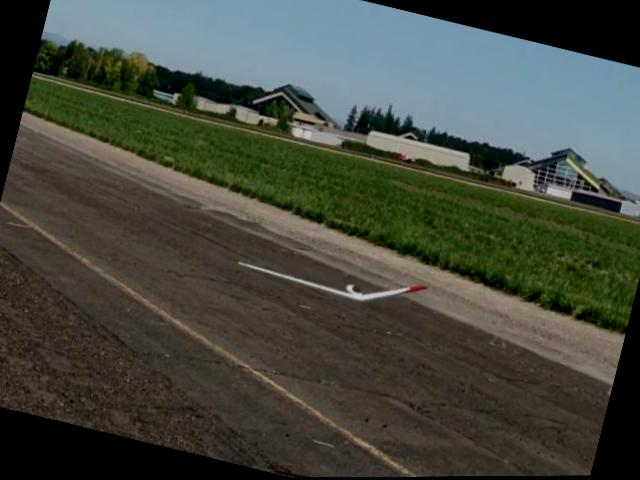flying wing: (233, 236, 431, 322)
